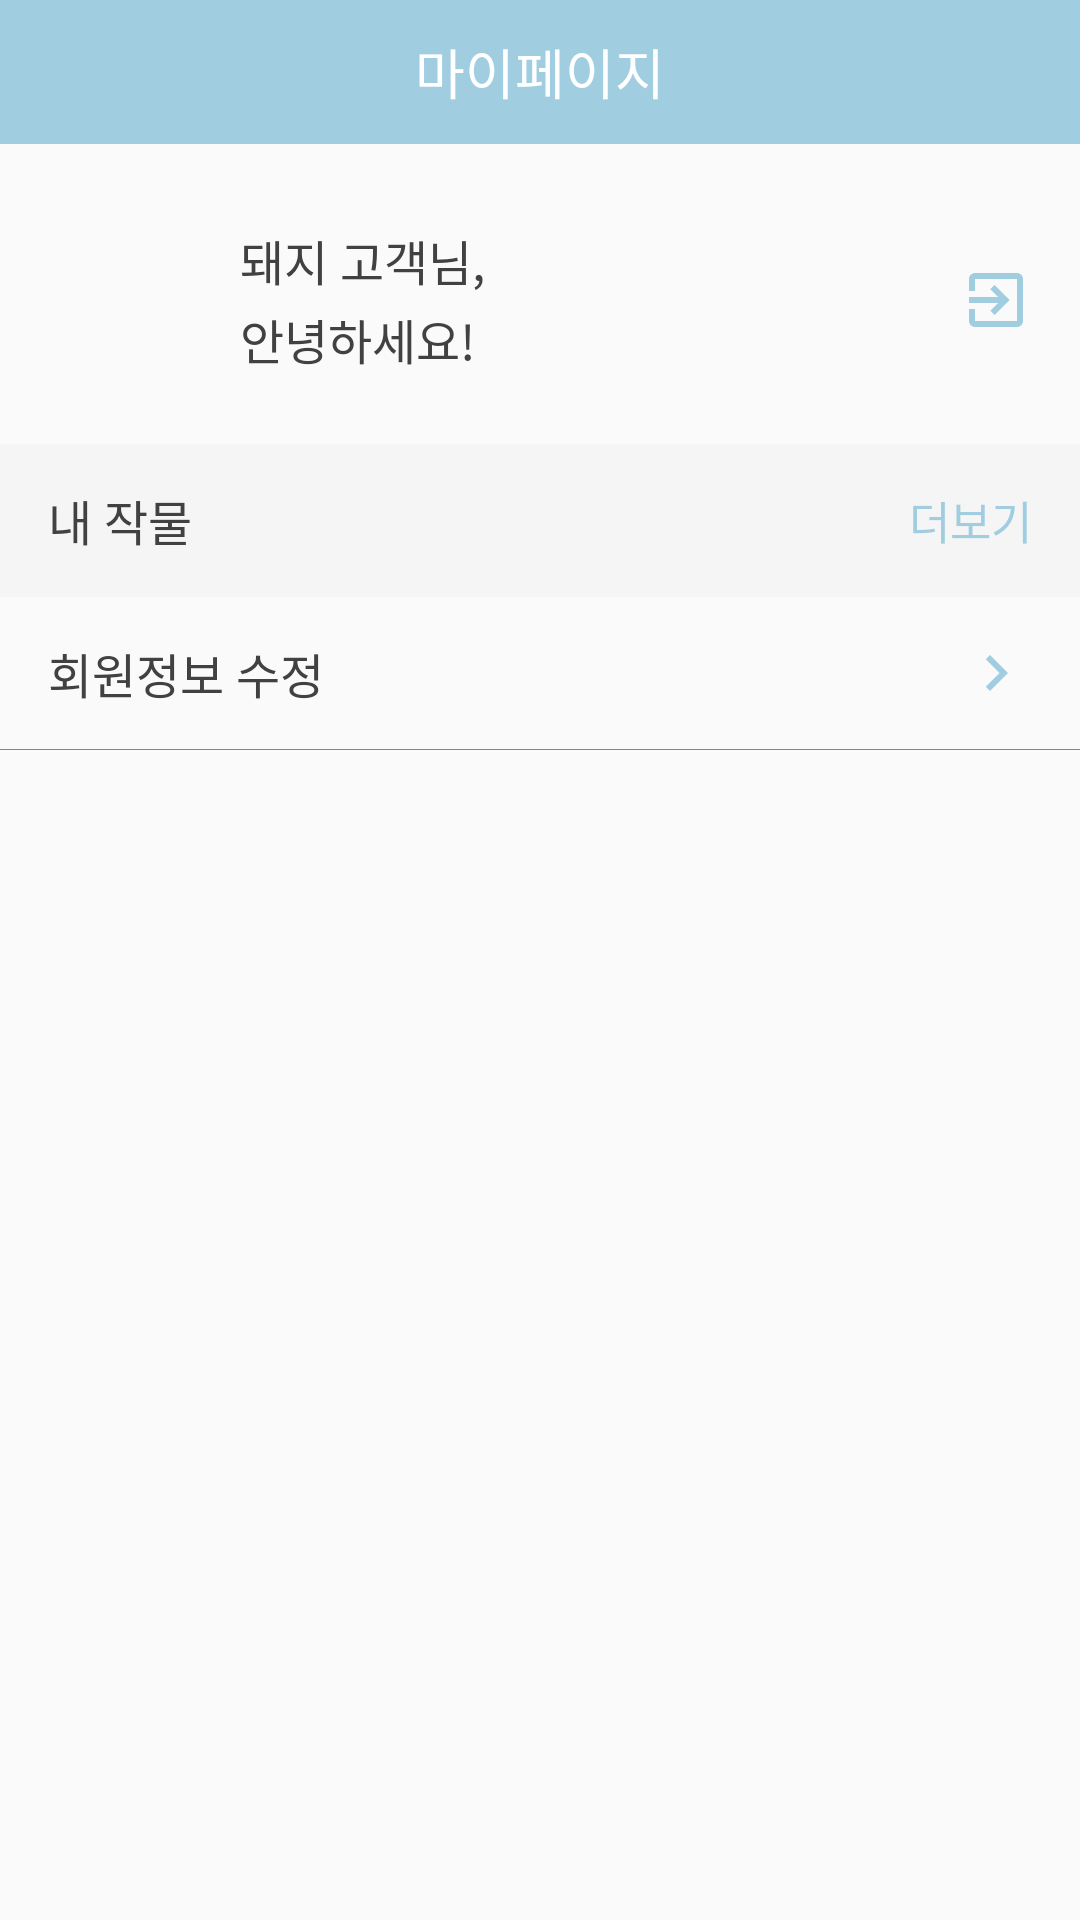

Icon click points for this 1080×1920 phone screenshot, format (x,y):
exit to app: (996,300)
right: (997,673)
